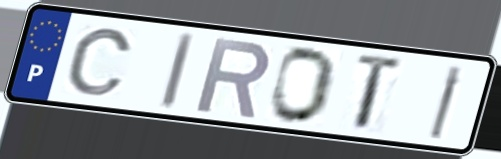C: (63, 25, 137, 98)
I: (157, 30, 199, 113), (425, 62, 468, 142)
O: (267, 45, 341, 126)
R: (192, 34, 273, 120)
T: (352, 51, 407, 134)
